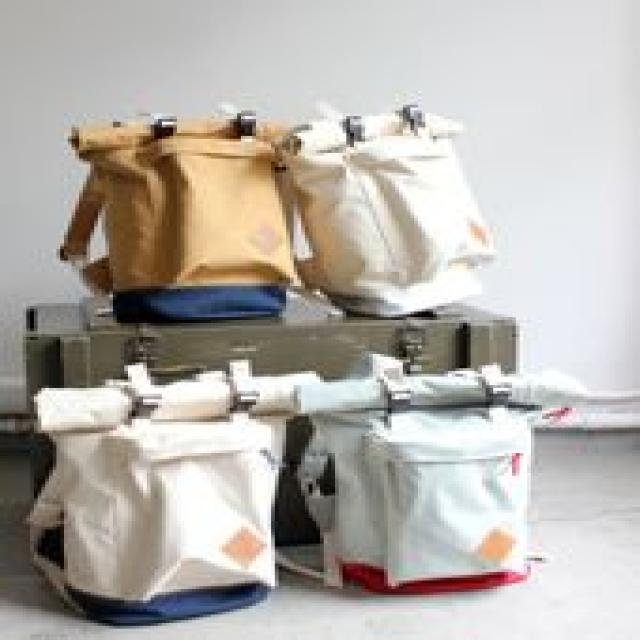backpack: (23, 363, 310, 623), (307, 365, 559, 602), (280, 98, 525, 316), (52, 112, 301, 326)
